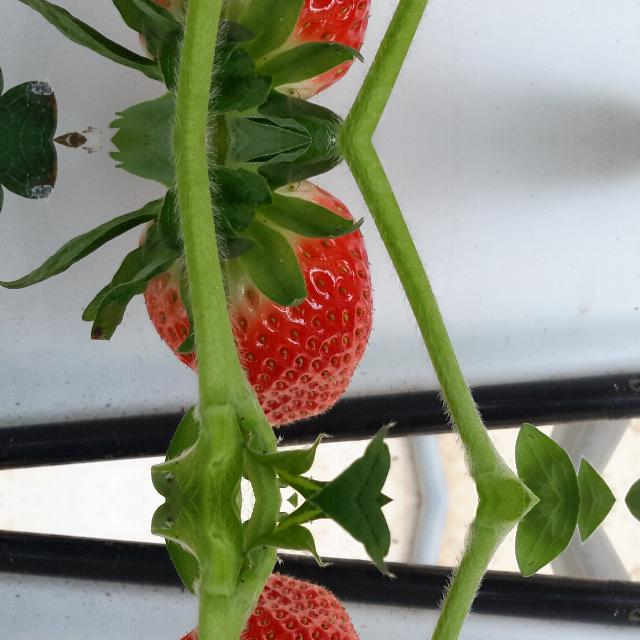Health_100: (142, 178, 374, 426), (141, 0, 374, 102), (141, 574, 374, 640)
